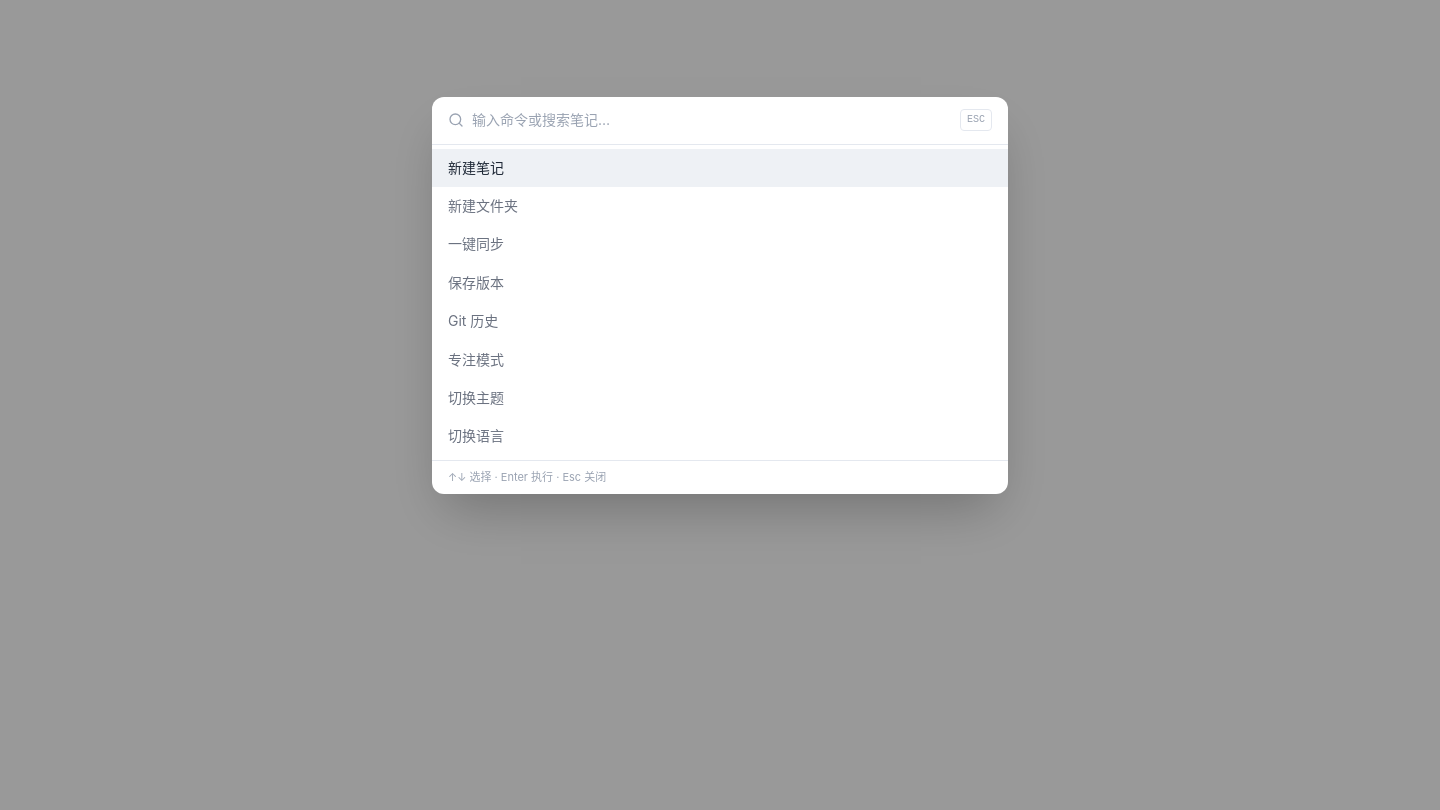
Scenario: CommandPalette 搜索筛选与高亮 › 按笔记类型筛选并高亮命中词
Step 1. Type "rust" into the field with placeholder "输入命令或搜索笔记…" → coordinates (712, 120), box [472,109,952,132]
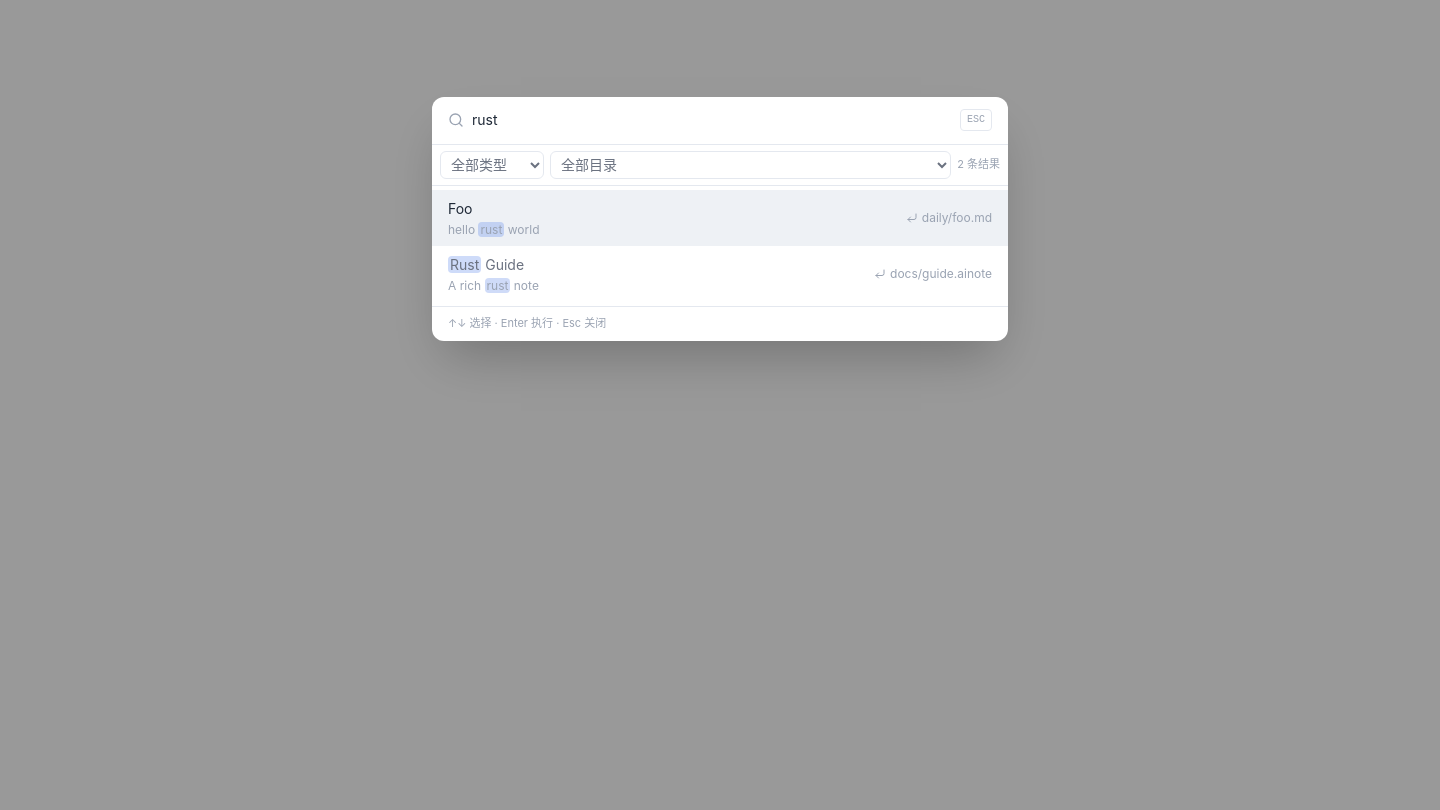
Expected: the text "Foo" is shown, [448,200,472,217]
Expected: the 1st text "rust" is shown, [478,222,504,237]
Step 2. Select "富文本" in the dropdown named "笔记类型" → coordinates (492, 165), box [440,151,544,179]
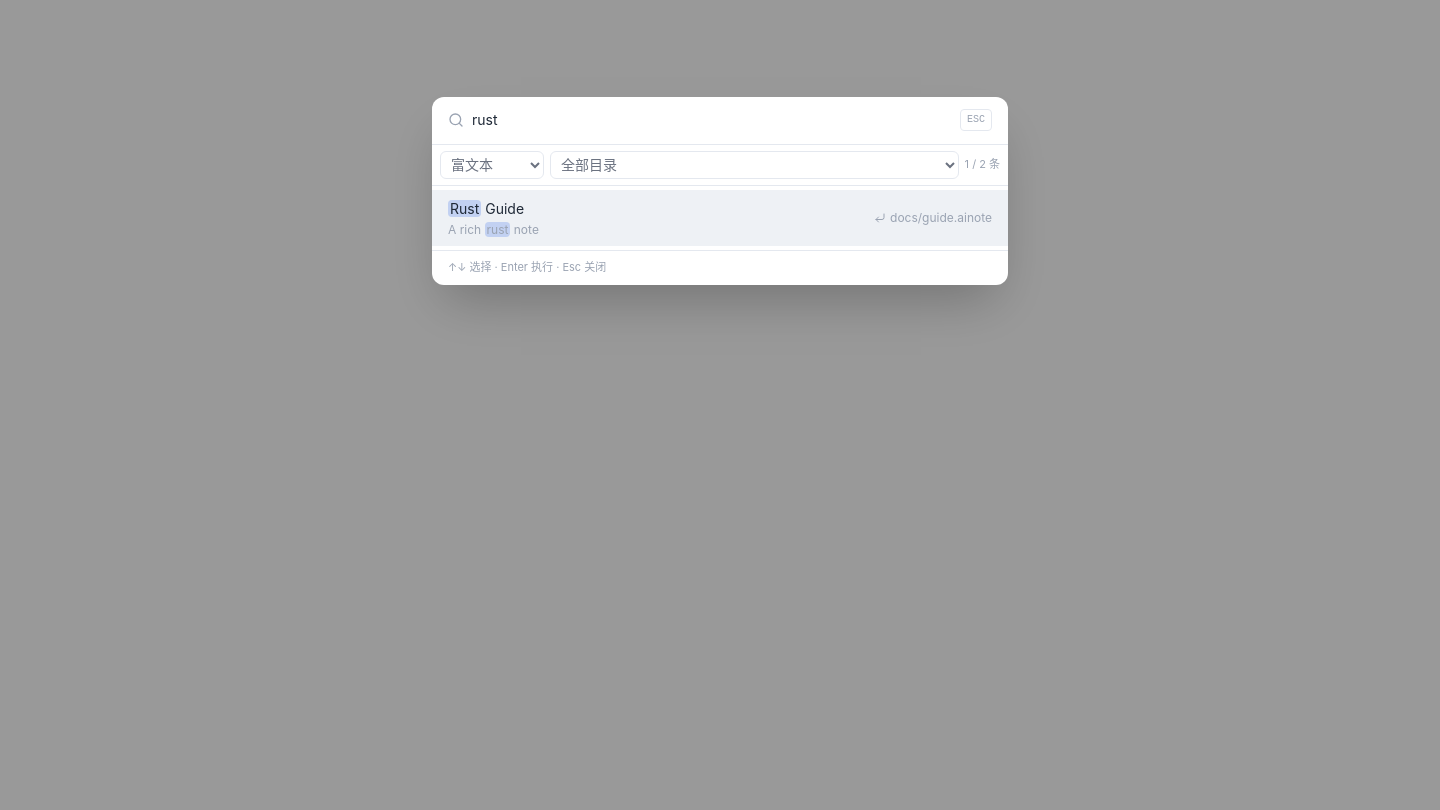
Expected: the button "Foo" is gone
Expected: the list shows "Rust Guide", [432,186,1008,250]
Expected: the text "1 / 2 条" is shown, [965,156,1000,173]
